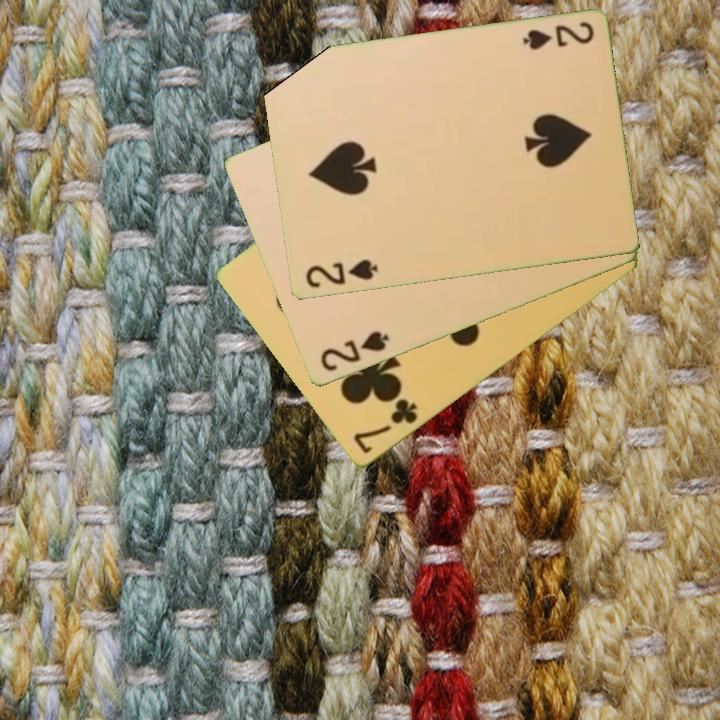2s: (316, 328, 392, 375), (302, 256, 381, 291), (519, 18, 597, 53)
7c: (349, 395, 420, 457)
